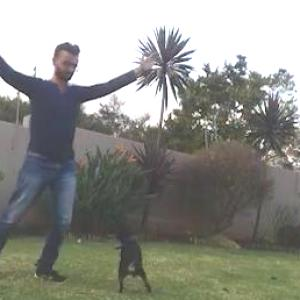takeoff: (0, 22, 149, 263)
